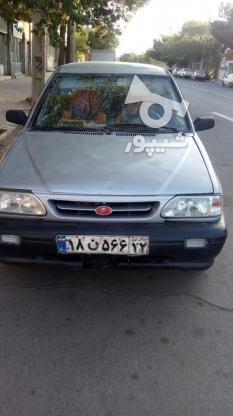car: (55, 235, 150, 257)
